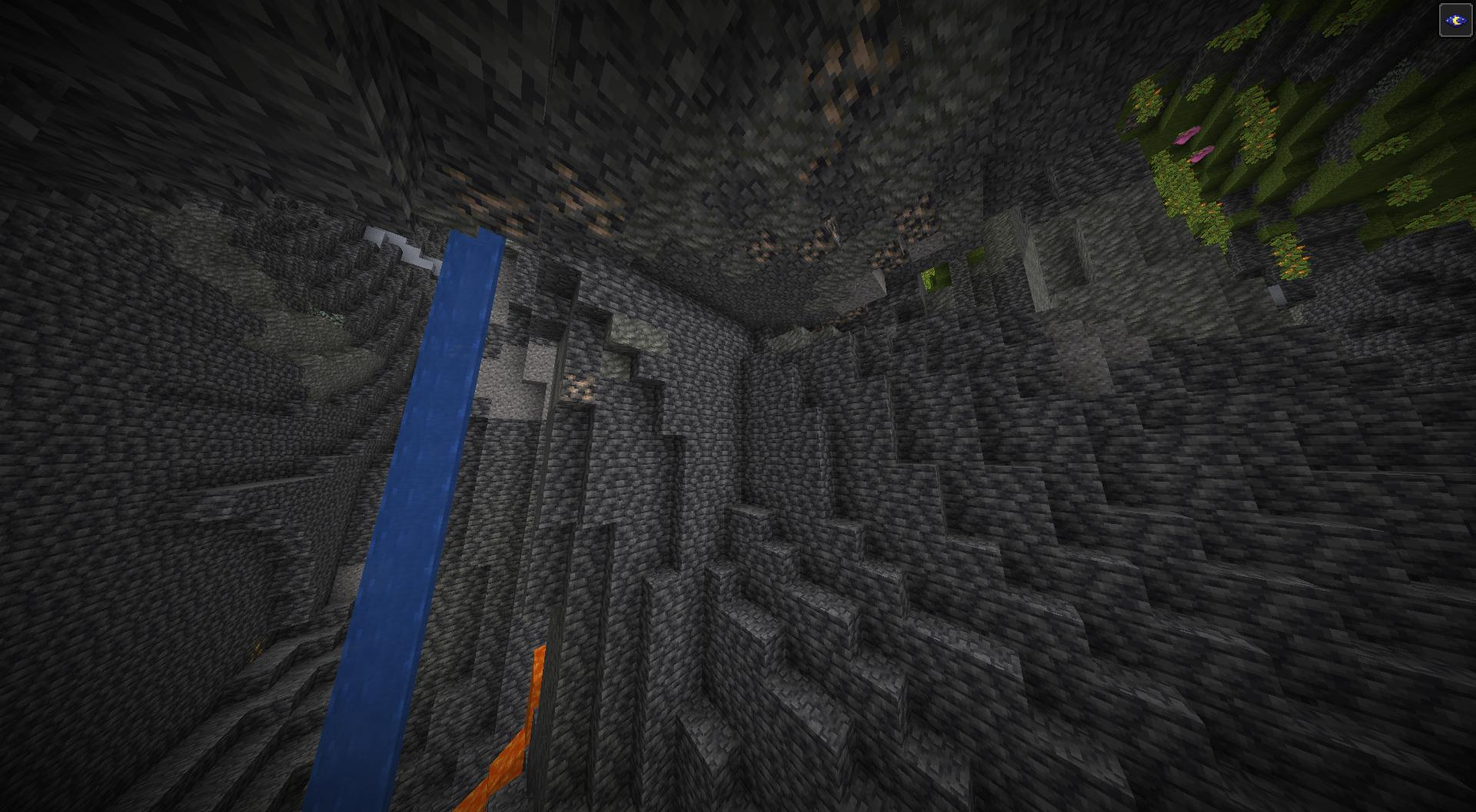gold ore: (239, 633, 268, 657)
iron ore: (810, 7, 933, 122), (452, 166, 539, 244), (539, 165, 623, 236), (894, 194, 946, 243), (802, 227, 836, 262), (557, 371, 591, 404), (749, 233, 773, 270), (872, 246, 908, 268)
